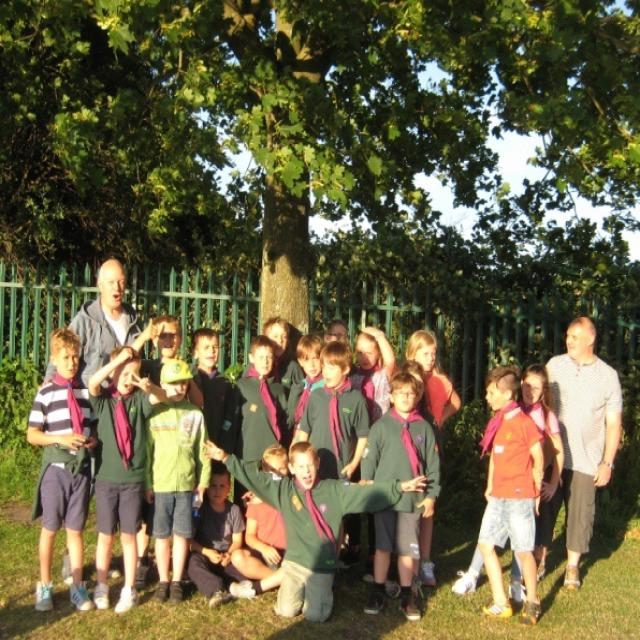body: (201, 434, 429, 626), (36, 256, 150, 590), (449, 362, 567, 606), (529, 315, 625, 593), (22, 324, 98, 615), (358, 367, 443, 622), (472, 361, 546, 627), (84, 342, 154, 616), (140, 356, 213, 606), (286, 338, 372, 482), (227, 334, 293, 507), (185, 459, 258, 611), (229, 443, 291, 600), (398, 359, 440, 590), (128, 312, 206, 411), (404, 328, 462, 433), (189, 325, 234, 447), (346, 325, 396, 429), (286, 332, 326, 438), (260, 314, 306, 391), (321, 316, 353, 349)
